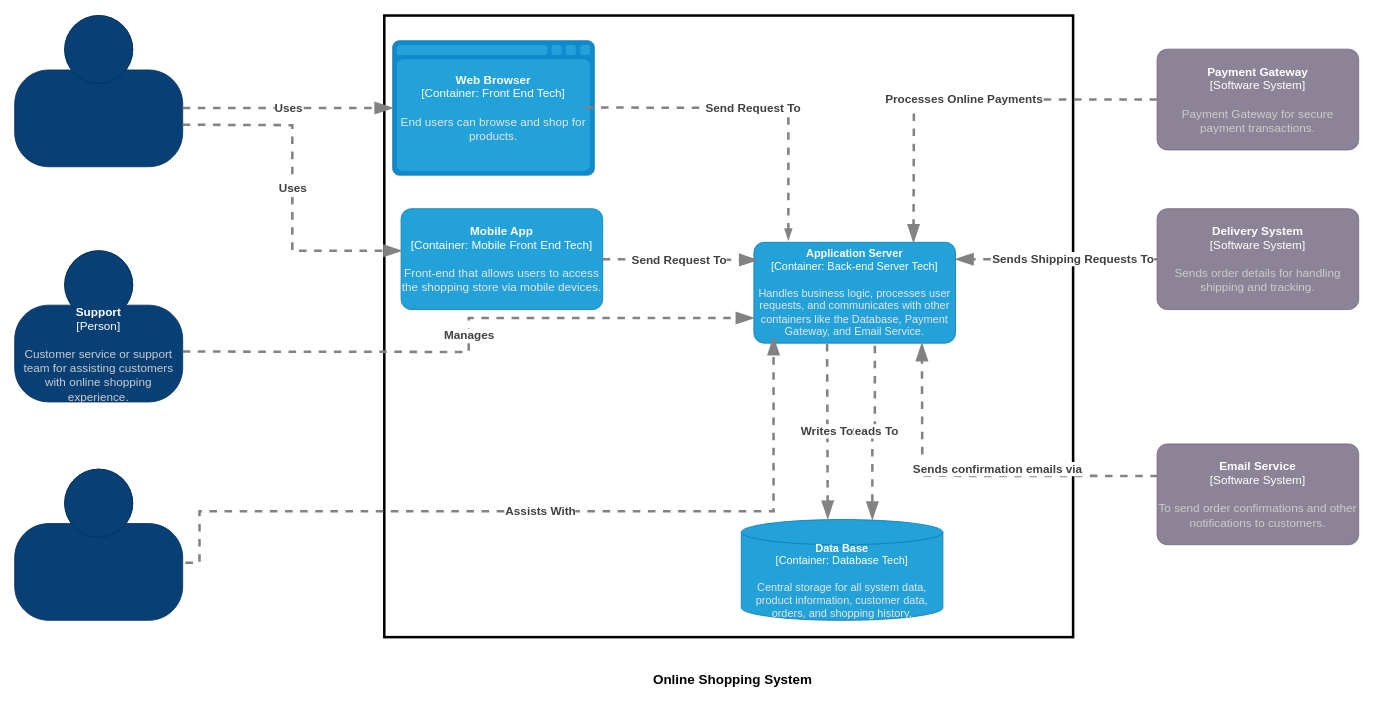
Some shapes in this 1373 by 719 pixel diagram are drawn without their labels. Here are the shapes that lost their labels. From the top down, the centre of each, then its label:
At point (98, 91): "Customer [Person] Person buying from online store.".
At point (98, 544): "Admin [Person] Person that administers the online shopping website.".
